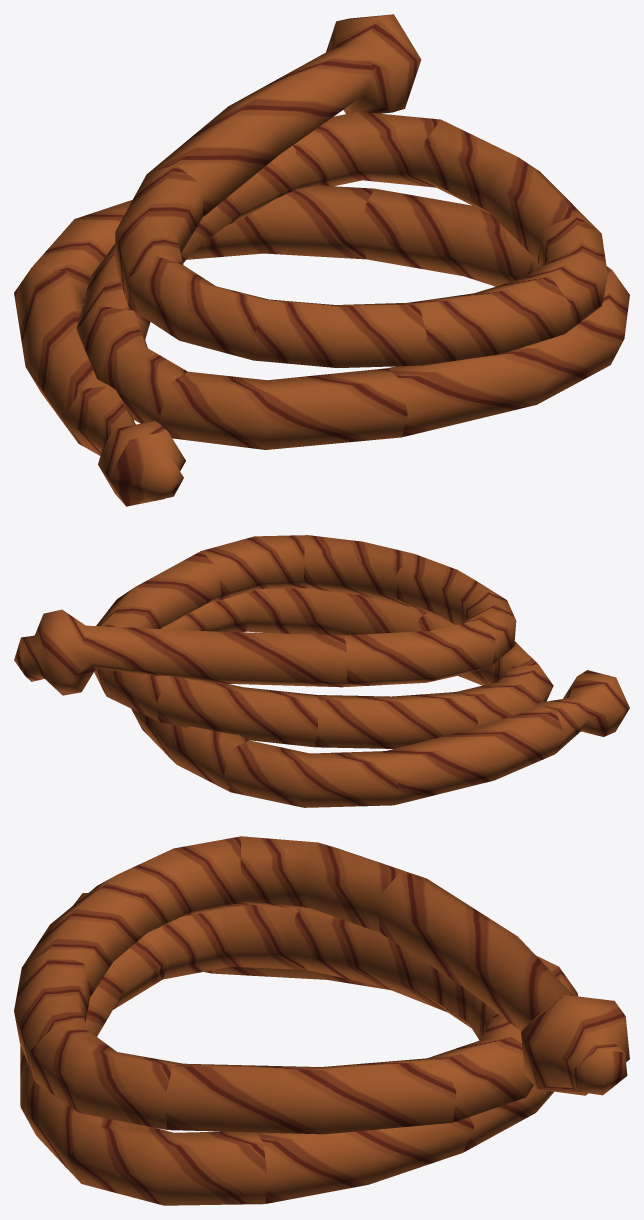
Rendered from Rope.fbx.
3 renders of one model, top to bottom at view 1: azimuth 30°, elevation 25°; view 2: azimuth 150°, elevation 25°; view 3: azimuth 270°, elevation 25°, orthographic. The views are drawn at different scales.
Parts seen in each view (by area): view 1: Rope; view 2: Rope; view 3: Rope.
Part boxes in pixels (x1,y1,x2,y2): Rope: [14, 14, 629, 506]; Rope: [14, 535, 629, 807]; Rope: [14, 836, 629, 1205].
Bounding box in the file's own units: 80.19 × 28.52 × 73.12.
1 material, 1 textured.
